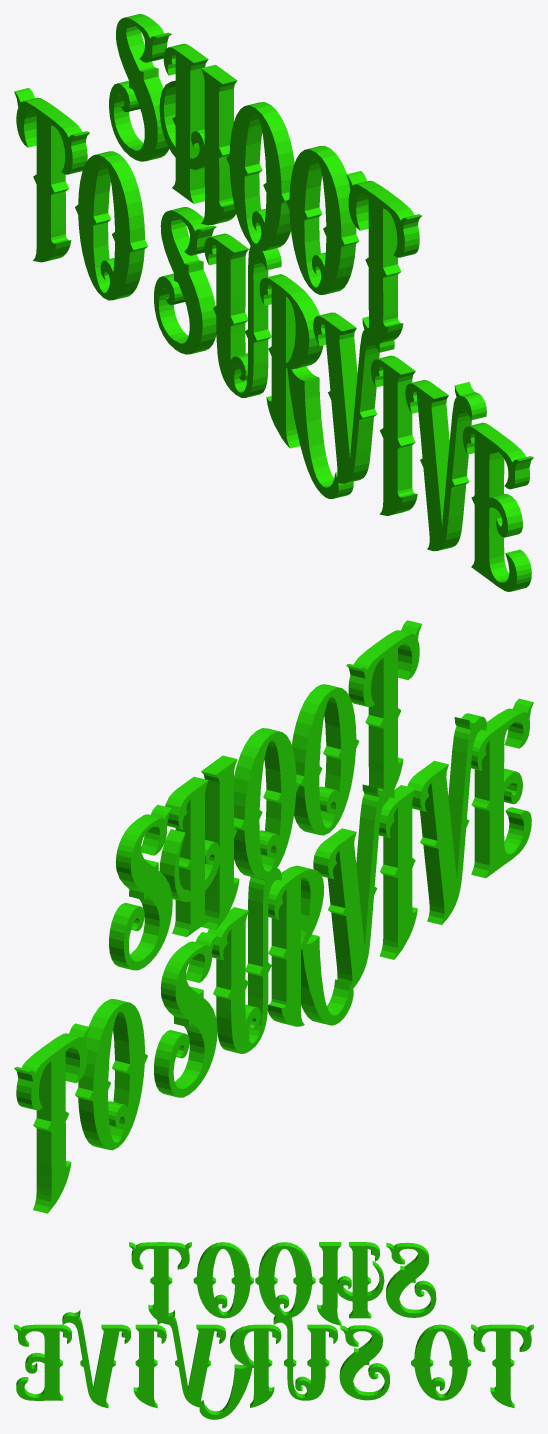
File: ShootToSurvive.fbx
3 renders of one model, top to bottom at view 1: azimuth 30°, elevation 25°; view 2: azimuth 150°, elevation 25°; view 3: azimuth 270°, elevation 25°, orthographic. The views are drawn at different scales.
Visible parts, largest first — view 1: Model Text Moyers - Carnival [14168]; view 2: Model Text Moyers - Carnival [14168]; view 3: Model Text Moyers - Carnival [14168].
Part boxes in pixels (x1,y1,x2,y2): Model Text Moyers - Carnival [14168]: (14,14,533,591); Model Text Moyers - Carnival [14168]: (14,620,533,1213); Model Text Moyers - Carnival [14168]: (14,1242,533,1419).
Size of the model in its own units: 5 by 109 by 294.
